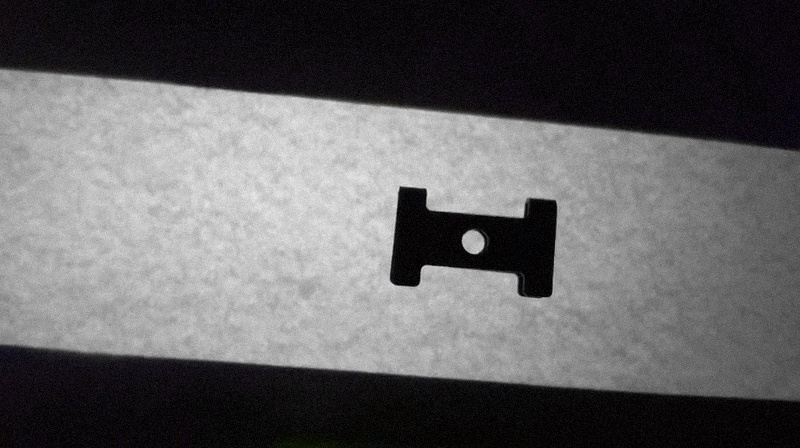O002: (387, 181, 564, 303)
